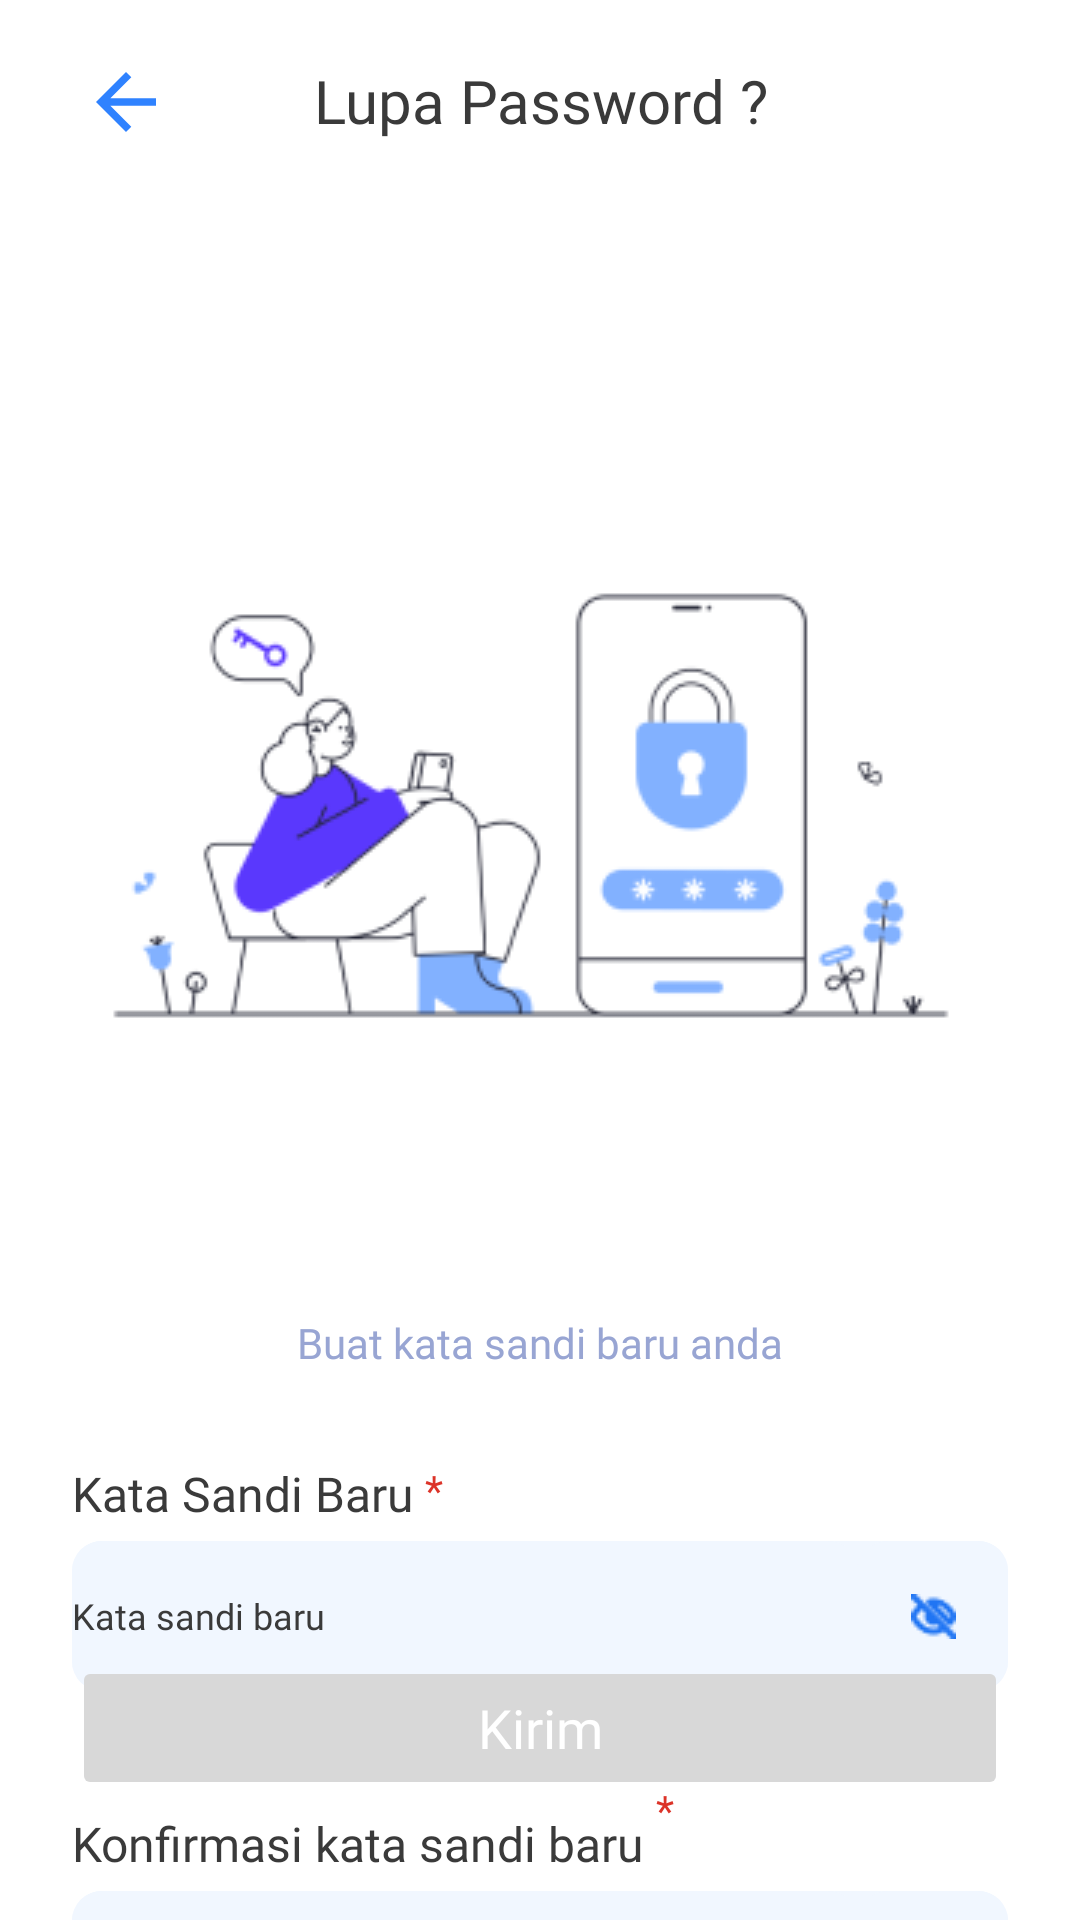

Locate icon controls on the screen. Image size 1080px x 1920px, boxes as box(x1, y1, x2, y2).
arrow back: box(96, 72, 156, 132)
